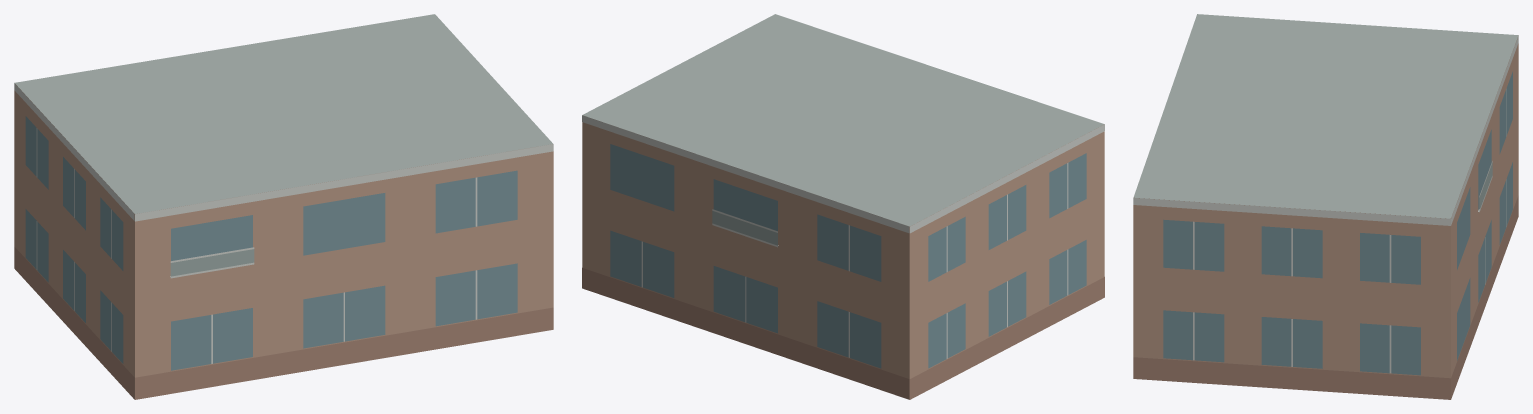
The model's file is survey-upis-32926055.glb.
3 renders of one model, left to right at view 1: azimuth 30°, elevation 25°; view 2: azimuth 150°, elevation 25°; view 3: azimuth 270°, elevation 25°, orthographic. The views are drawn at different scales.
Visible parts, largest first — view 1: survey-upis-32926055.tmp; view 2: survey-upis-32926055.tmp; view 3: survey-upis-32926055.tmp.
Part boxes in pixels (x1=…): survey-upis-32926055.tmp: x1=14, y1=14, x2=553, y2=399; survey-upis-32926055.tmp: x1=582, y1=14, x2=1104, y2=399; survey-upis-32926055.tmp: x1=1133, y1=14, x2=1518, y2=399.
Size of the model in its own units: 14.8 by 6.1 by 11.77.
